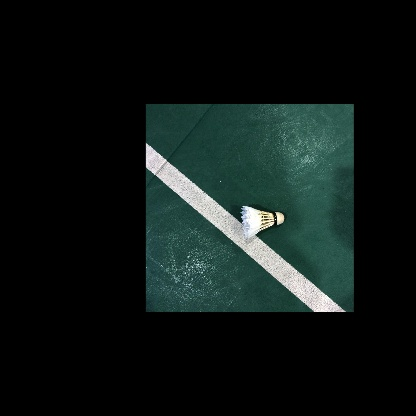ball_single: (240, 206, 284, 239)
